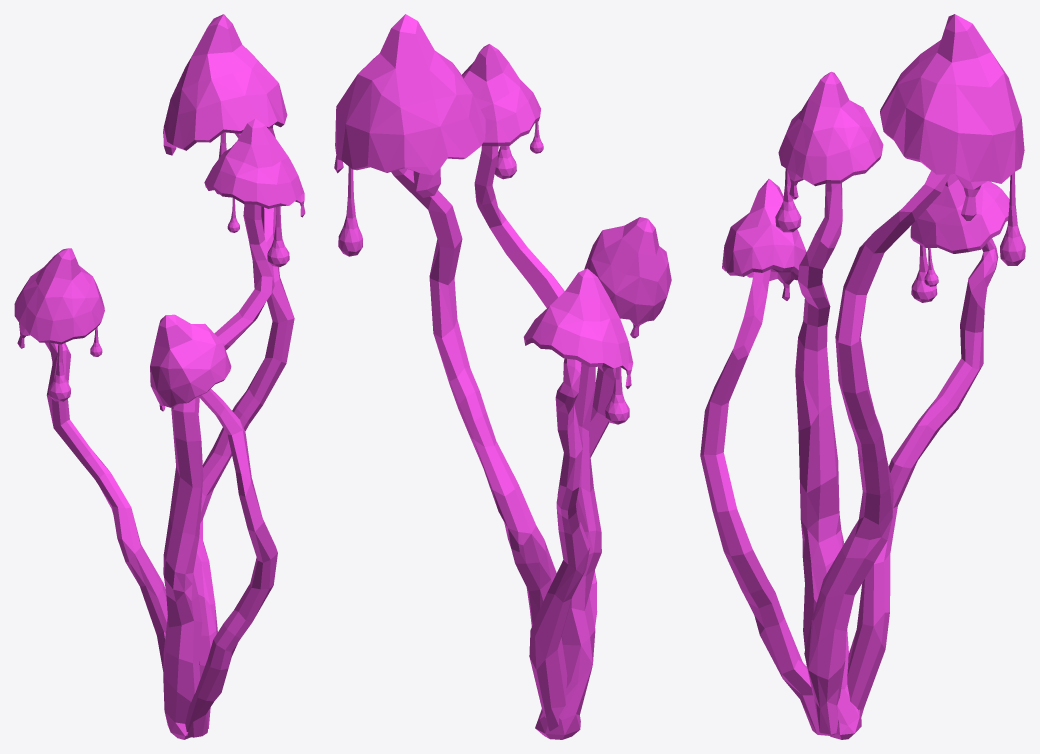
File: SM_Mushroom_Drip_Giant_Cluster_A_Fantasy.fbx
The picture shows the model from 3 angles, left to right: view 1: azimuth 30°, elevation 25°; view 2: azimuth 150°, elevation 25°; view 3: azimuth 270°, elevation 25°; orthographic projection. The views are drawn at different scales.
Visible parts, largest first — view 1: SM_Mushroom_Drip_Giant_Cluster_A_Fantasy; view 2: SM_Mushroom_Drip_Giant_Cluster_A_Fantasy; view 3: SM_Mushroom_Drip_Giant_Cluster_A_Fantasy.
Boxes of the visible parts, bbox=[...] form: SM_Mushroom_Drip_Giant_Cluster_A_Fantasy: bbox=[14, 14, 305, 739]; SM_Mushroom_Drip_Giant_Cluster_A_Fantasy: bbox=[334, 14, 671, 739]; SM_Mushroom_Drip_Giant_Cluster_A_Fantasy: bbox=[700, 14, 1025, 739].
Bounding box in the file's own units: 3.67 × 8.92 × 3.42.
